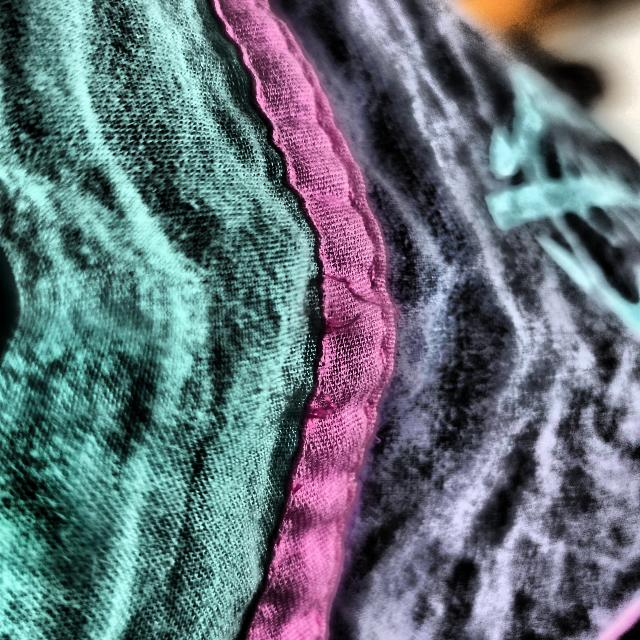Stitch: (244, 244, 439, 335), (251, 361, 406, 439)
